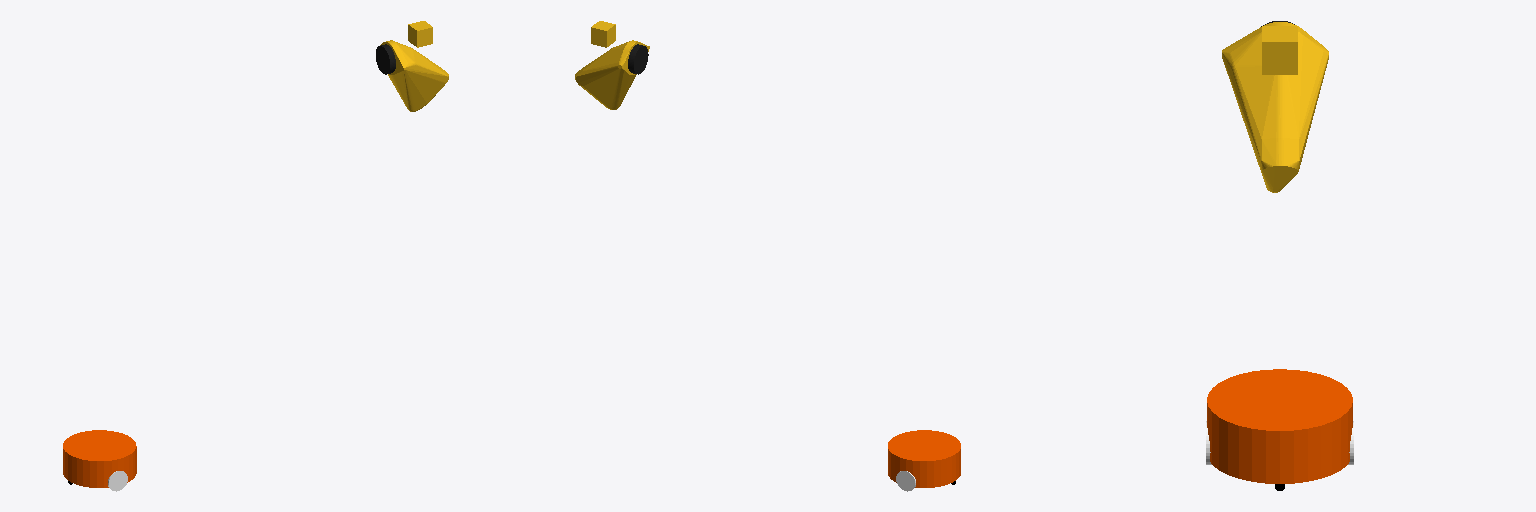
URDF robot description (crs):
<?xml version="1.0" ?>
<!-- =================================================================================== -->
<!-- |    This document was autogenerated by xacro from [local-path]/crs_ws_fanuc/install/fanuc_r2000ic_support/share/fanuc_r2000ic_support/urdf/r2000ic165f.xacro | -->
<!-- |    EDITING THIS FILE BY HAND IS NOT RECOMMENDED                                 | -->
<!-- =================================================================================== -->
<robot name="crs">
  <!-- Defining the colors used in this robot -->
  <material name="yellow">
    <color rgba="1 0.4 0 1"/>
  </material>
  <material name="black">
    <color rgba="0 0 0 0.95"/>
  </material>
  <material name="gray">
    <color rgba="0.75 0.75 0.75 1"/>
  </material>
  <!-- links: main serial chain -->
  <link name="world"/>
  <joint name="world_base_link" type="fixed">
    <parent link="world"/>
    <child link="base_link"/>
    <origin rpy="0 0 0" xyz="-2.5 0 0"/>
  </joint>
  <link name="base_link">
    <visual>
      <origin rpy="0 0 0" xyz="0 0 0"/>
      <geometry>
        <mesh filename="package://fanuc_r2000ic_support/meshes/r2000ic165f/visual/base_link.stl"/>
      </geometry>
      <material name="">
        <color rgba="0.4 0.4 0.4 1.0"/>
      </material>
    </visual>
    <collision>
      <origin rpy="0 0 0" xyz="0 0 0"/>
      <geometry>
        <mesh filename="package://fanuc_r2000ic_support/meshes/r2000ic165f/collision/base_link.stl"/>
      </geometry>
    </collision>
    <inertial>
      <mass value="10.0"/>
      <origin rpy="0.002688 0.004043 0.006103" xyz="-0.064613 -0.005314 0.100271"/>
      <inertia ixx="0.002695" ixy="0.000023" ixz="0.000157" iyy="0.004043" iyz="0.000023" izz="0.006096"/>
    </inertial>
  </link>
  <link name="link_1">
    <visual>
      <origin rpy="0 0 0" xyz="0 0 0"/>
      <geometry>
        <mesh filename="package://fanuc_r2000ic_support/meshes/r2000ic165f/visual/link_1.stl"/>
      </geometry>
      <material name="">
        <color rgba="0.96 0.76 0.13 1.0"/>
      </material>
    </visual>
    <collision>
      <origin rpy="0 0 0" xyz="0 0 0"/>
      <geometry>
        <mesh filename="package://fanuc_r2000ic_support/meshes/r2000ic165f/collision/link_1.stl"/>
      </geometry>
    </collision>
    <inertial>
      <mass value="5.0"/>
      <origin rpy="0.011358 0.019634 0.020073" xyz="0.010863 0.053239 0.523328"/>
      <inertia ixx="0.012932" ixy="0.003309" ixz=" -0.000331" iyy="0.018366" iyz="-0.000071" izz="0.019767"/>
    </inertial>
  </link>
  <link name="link_2">
    <visual>
      <origin rpy="0 0 0" xyz="0 0 0"/>
      <geometry>
        <mesh filename="package://fanuc_r2000ic_support/meshes/r2000ic165f/visual/link_2.stl"/>
      </geometry>
      <material name="">
        <color rgba="0.96 0.76 0.13 1.0"/>
      </material>
    </visual>
    <collision>
      <origin rpy="0 0 0" xyz="0 0 0"/>
      <geometry>
        <mesh filename="package://fanuc_r2000ic_support/meshes/r2000ic165f/collision/link_2.stl"/>
      </geometry>
    </collision>
    <inertial>
      <mass value="4.0"/>
      <origin rpy="0.001934 0.014381 0.015249" xyz="-0.001481 0.204359 0.436864"/>
      <inertia ixx="0.014390" ixy="0.000091" ixz="-0.000323" iyy="0.015120" iyz="-0.001213" izz="0.002053"/>
    </inertial>
  </link>
  <link name="link_3">
    <visual>
      <origin rpy="0 0 0" xyz="0 0 0"/>
      <geometry>
        <mesh filename="package://fanuc_r2000ic_support/meshes/r2000ic165f/visual/link_3.stl"/>
      </geometry>
      <material name="">
        <color rgba="0.96 0.76 0.13 1.0"/>
      </material>
    </visual>
    <collision>
      <origin rpy="0 0 0" xyz="0 0 0"/>
      <geometry>
        <mesh filename="package://fanuc_r2000ic_support/meshes/r2000ic165f/collision/link_3.stl"/>
      </geometry>
    </collision>
    <inertial>
      <mass value="4.0"/>
      <origin rpy="0.000964 0.001451 0.001518" xyz="0.059293 0.012994 0.109078"/>
      <inertia ixx="0.001451" ixy="0.000017" ixz="-0.000177" iyy="0.001441" iyz="0.000072" izz="0.001041"/>
    </inertial>
  </link>
  <link name="link_4">
    <visual>
      <origin rpy="0 0 0" xyz="0 0 0"/>
      <geometry>
        <mesh filename="package://fanuc_r2000ic_support/meshes/r2000ic165f/visual/link_4.stl"/>
      </geometry>
      <material name="">
        <color rgba="0.96 0.76 0.13 1.0"/>
      </material>
    </visual>
    <collision>
      <origin rpy="0 0 0" xyz="0 0 0"/>
      <geometry>
        <mesh filename="package://fanuc_r2000ic_support/meshes/r2000ic165f/collision/link_4.stl"/>
      </geometry>
    </collision>
    <inertial>
      <mass value="5.0"/>
      <origin rpy="0.000333 0.004282 0.004287" xyz="0.711733 -0.002537 -0.000643"/>
      <inertia ixx="0.000333" ixy="0.000044" ixz="0.000006" iyy="0.004287" iyz="-0.000000" izz="0.004282"/>
    </inertial>
  </link>
  <link name="link_5">
    <visual>
      <origin rpy="0 0 0" xyz="0 0 0"/>
      <geometry>
        <mesh filename="package://fanuc_r2000ic_support/meshes/r2000ic165f/visual/link_5.stl"/>
      </geometry>
      <material name="">
        <color rgba="0.96 0.76 0.13 1.0"/>
      </material>
    </visual>
    <collision>
      <origin rpy="0 0 0" xyz="0 0 0"/>
      <geometry>
        <mesh filename="package://fanuc_r2000ic_support/meshes/r2000ic165f/collision/link_5.stl"/>
      </geometry>
    </collision>
    <inertial>
      <mass value="8.0"/>
      <origin rpy="0.000078 0.000103 0.000118" xyz="0.042035 -0.024095 -0.001620"/>
      <inertia ixx="0.000088" ixy="-0.000012" ixz="0.000000" iyy="0.000094" iyz="0.000000" izz="0.000118"/>
    </inertial>
  </link>
  <link name="link_6">
    <visual>
      <origin rpy="0 0 0" xyz="0 0 0"/>
      <geometry>
        <mesh filename="package://fanuc_r2000ic_support/meshes/r2000ic165f/visual/link_6.stl"/>
      </geometry>
      <material name="">
        <color rgba="0.15 0.15 0.15 1.0"/>
      </material>
    </visual>
    <collision>
      <origin rpy="0 0 0" xyz="0 0 0"/>
      <geometry>
        <mesh filename="package://fanuc_r2000ic_support/meshes/r2000ic165f/collision/link_6.stl"/>
      </geometry>
    </collision>
    <inertial>
      <mass value="5.0"/>
      <origin rpy="0.000001 0.000001 0.000002" xyz="-0.018677 -0.000000 -0.000002"/>
      <inertia ixx="0.000002" ixy="0.000000" ixz="-0.000000" iyy="0.000001" iyz="0.000000" izz="0.000001"/>
    </inertial>
  </link>
  <link name="ef">
    <visual>
      <origin rpy="0 0 0" xyz="0 0 0"/>
      <geometry>
        <mesh filename="package://fanuc_r2000ic_support/meshes/r2000ic165f/visual/ef.stl"/>
      </geometry>
      <material name="">
        <color rgba="0.96 0.76 0.13 1.0"/>
      </material>
    </visual>
    <collision>
      <origin rpy="0 0 0" xyz="0 0 0"/>
      <geometry>
        <mesh filename="package://fanuc_r2000ic_support/meshes/r2000ic165f/collision/ef.stl"/>
      </geometry>
    </collision>
    <inertial>
      <mass value="3.0"/>
      <origin rpy="0.000082 0.000185 0.000195" xyz="0.0 0.0 0.0"/>
      <inertia ixx="0.000127" ixy="0.000000" ixz="0.000052" iyy="0.000194" iyz="0.000003" izz="0.000141"/>
    </inertial>
  </link>
  <!--mbot_base -->
  <link name="agv_base_link">
    <visual>
      <origin rpy="0 0 0" xyz="0 0 0"/>
      <geometry>
        <cylinder length="0.16" radius="0.20"/>
      </geometry>
      <material name="yellow">
        <color rgba="1 0.4 0 1"/>
      </material>
    </visual>
  </link>
  <joint name="agv_base_link" type="continuous">
    <origin rpy="0 0 0" xyz="0 0 0"/>
    <parent link="base_link"/>
    <child link="agv_base_link"/>
    <axis xyz="0 1 0"/>
  </joint>
  <joint name="left_wheel_joint" type="continuous">
    <origin rpy="0 0 0" xyz="0 0.19 -0.05"/>
    <parent link="base_link"/>
    <child link="left_wheel_link"/>
    <axis xyz="0 1 0"/>
  </joint>
  <link name="left_wheel_link">
    <visual>
      <origin rpy="1.5707 0 0" xyz="0 0 0"/>
      <geometry>
        <cylinder length="0.025" radius="0.06"/>
      </geometry>
      <material name="white">
        <color rgba="1 1 1 0.9"/>
      </material>
    </visual>
  </link>
  <joint name="right_wheel_joint" type="continuous">
    <origin rpy="0 0 0" xyz="0 -0.19 -0.05"/>
    <parent link="base_link"/>
    <child link="right_wheel_link"/>
    <axis xyz="0 1 0"/>
  </joint>
  <link name="right_wheel_link">
    <visual>
      <origin rpy="1.5707 0 0" xyz="0 0 0"/>
      <geometry>
        <cylinder length="0.025" radius="0.06"/>
      </geometry>
      <material name="white">
        <color rgba="1 1 1 0.9"/>
      </material>
    </visual>
  </link>
  <joint name="front_caster_joint" type="continuous">
    <origin rpy="0 0 0" xyz="0.18 0 -0.095"/>
    <parent link="base_link"/>
    <child link="front_caster_link"/>
    <axis xyz="0 1 0"/>
  </joint>
  <link name="front_caster_link">
    <visual>
      <origin rpy="0 0 0" xyz="0 0 0"/>
      <geometry>
        <sphere radius="0.015"/>
      </geometry>
      <material name="black">
        <color rgba="0 0 0 0.95"/>
      </material>
    </visual>
  </link>
  <joint name="back_caster_joint" type="continuous">
    <origin rpy="0 0 0" xyz="-0.18 0 -0.095"/>
    <parent link="base_link"/>
    <child link="back_caster_link"/>
    <axis xyz="0 1 0"/>
  </joint>
  <link name="back_caster_link">
    <visual>
      <origin rpy="0 0 0" xyz="0 0 0"/>
      <geometry>
        <sphere radius="0.015"/>
      </geometry>
      <material name="black">
        <color rgba="0 0 0 0.95"/>
      </material>
    </visual>
  </link>
  <!-- joints: main serial chain -->
  <joint name="joint_1" type="revolute">
    <origin rpy="0 0 0" xyz="0 0 0"/>
    <parent link="base_link"/>
    <child link="link_1"/>
    <axis xyz="0 0 1"/>
    <limit effort="0" lower="-3.2288591161895095" upper="3.2288591161895095" velocity="2.2689280275926285"/>
  </joint>
  <joint name="joint_2" type="revolute">
    <origin rpy="0 0 0" xyz="0.312 0 0.670"/>
    <parent link="link_1"/>
    <child link="link_2"/>
    <axis xyz="0 1 0"/>
    <limit effort="0" lower="-1.0471975511965976" upper="1.3264502315156905" velocity="2.007128639793479"/>
  </joint>
  <joint name="joint_3" type="revolute">
    <origin rpy="0 0 0" xyz="0 0 1.075"/>
    <parent link="link_2"/>
    <child link="link_3"/>
    <axis xyz="0 -1 0"/>
    <limit effort="0" lower="-2.303834612632515" upper="3.141592653589793" velocity="2.181661564992912"/>
  </joint>
  <joint name="joint_4" type="revolute">
    <origin rpy="0 0 0" xyz="0 0 0.225"/>
    <parent link="link_3"/>
    <child link="link_4"/>
    <axis xyz="-1 0 0"/>
    <limit effort="0" lower="-6.283185307179586" upper="6.283185307179586" velocity="3.141592653589793"/>
  </joint>
  <joint name="joint_5" type="revolute">
    <origin rpy="0 0 0" xyz="1.280 0 0"/>
    <parent link="link_4"/>
    <child link="link_5"/>
    <axis xyz="0 -1 0"/>
    <limit effort="0" lower="-2.181661564992912" upper="2.181661564992912" velocity="3.141592653589793"/>
  </joint>
  <joint name="joint_6" type="revolute">
    <origin rpy="0 0 0" xyz="0.215 0 0"/>
    <parent link="link_5"/>
    <child link="link_6"/>
    <axis xyz="-1 0 0"/>
    <limit effort="0" lower="-6.283185307179586" upper="6.283185307179586" velocity="4.537856055185257"/>
  </joint>
  <!-- ROS-Industrial 'base' frame: base_link to Fanuc World Coordinates transform -->
  <link name="base"/>
  <joint name="base_link-base" type="fixed">
    <origin rpy="0 0 0" xyz="0 0 0.670"/>
    <parent link="base_link"/>
    <child link="base"/>
  </joint>
  <!-- ROS-Industrial 'flange' frame: attachment point for EEF models -->
  <link name="flange"/>
  <joint name="joint_6-flange" type="fixed">
    <origin rpy="0 0 0" xyz="0 0 0"/>
    <parent link="link_6"/>
    <child link="flange"/>
  </joint>
  <!-- ROS-Industrial 'tool0' frame: all-zeros tool frame -->
  <link name="tool0"/>
  <joint name="flange-tool0" type="fixed">
    <origin rpy="0 1.5707963267948966 0" xyz="0 0 0"/>
    <parent link="link_6"/>
    <child link="tool0"/>
  </joint>
  <joint name="flange-ef" type="fixed">
    <origin rpy="3.141592653589793 -3.141592653589793 0" xyz="0 0 0"/>
    <parent link="tool0"/>
    <child link="ef"/>
  </joint>
  <link name="tcp"/>
  <joint name="tcp_ef" type="fixed">
    <origin rpy="5.53832e-13 -0.785398 0" xyz="-0.204433413 -7.32E-04 0.333181177"/>
    <parent link="ef"/>
    <child link="tcp"/>
  </joint>
  <link name="gazebo_camera_link">
    <collision>
      <origin rpy="0 0 0" xyz="0 0 0"/>
      <geometry>
        <box size="0.1 0.1 0.1"/>
      </geometry>
    </collision>
    <visual>
      <origin rpy="0 0 0" xyz="0 0 0"/>
      <geometry>
        <box size="0.1 0.1 0.1"/>
      </geometry>
      <material name="">
        <color rgba="0.96 0.76 0.13 1.0"/>
      </material>
    </visual>
    <inertial>
      <mass value="1e-5"/>
      <origin rpy="0 0 0" xyz="0 0 0"/>
      <inertia ixx="1e-6" ixy="0" ixz="0" iyy="1e-6" iyz="0" izz="1e-6"/>
    </inertial>
  </link>
  <joint name="gazebo_camera_joint" type="fixed">
    <origin rpy="1.57 -1.57 0" xyz="0.0 0.0 0.0"/>
    <parent link="camera_link_optical"/>
    <child link="gazebo_camera_link"/>
  </joint>
  <link name="camera_link_optical">

    </link>
  <joint name="camera_optical_joint" type="fixed">
    <origin rpy="0 0 0" xyz="0.1 0 0.2"/>
    <parent link="ef"/>
    <child link="camera_link_optical"/>
  </joint>
  <link name="camera_link"/>
  <joint name="camera_link_joint" type="fixed">
    <origin rpy="1.57 -1.57 0" xyz="0.0 0.0 0.0"/>
    <parent link="camera_link_optical"/>
    <child link="camera_link"/>
  </joint>
  <transmission name="trans_joint_1">
    <type>transmission_interface/SimpleTransmission</type>
    <joint name="joint_1">
      <hardwareInterface>hardware_interface/EffortJointInterface</hardwareInterface>
    </joint>
    <actuator name="joint_1_motor">
      <hardwareInterface>hardware_interface/EffortJointInterface</hardwareInterface>
      <mechanicalReduction>1</mechanicalReduction>
    </actuator>
  </transmission>
  <transmission name="trans_joint_2">
    <type>transmission_interface/SimpleTransmission</type>
    <joint name="joint_2">
      <hardwareInterface>hardware_interface/EffortJointInterface</hardwareInterface>
    </joint>
    <actuator name="joint_2_motor">
      <hardwareInterface>hardware_interface/EffortJointInterface</hardwareInterface>
      <mechanicalReduction>1</mechanicalReduction>
    </actuator>
  </transmission>
  <transmission name="trans_joint_3">
    <type>transmission_interface/SimpleTransmission</type>
    <joint name="joint_3">
      <hardwareInterface>hardware_interface/EffortJointInterface</hardwareInterface>
    </joint>
    <actuator name="joint_3_motor">
      <hardwareInterface>hardware_interface/EffortJointInterface</hardwareInterface>
      <mechanicalReduction>1</mechanicalReduction>
    </actuator>
  </transmission>
  <transmission name="trans_joint_4">
    <type>transmission_interface/SimpleTransmission</type>
    <joint name="joint_4">
      <hardwareInterface>hardware_interface/EffortJointInterface</hardwareInterface>
    </joint>
    <actuator name="joint_4_motor">
      <hardwareInterface>hardware_interface/EffortJointInterface</hardwareInterface>
      <mechanicalReduction>1</mechanicalReduction>
    </actuator>
  </transmission>
  <transmission name="trans_joint_5">
    <type>transmission_interface/SimpleTransmission</type>
    <joint name="joint_5">
      <hardwareInterface>hardware_interface/EffortJointInterface</hardwareInterface>
    </joint>
    <actuator name="joint_5_motor">
      <hardwareInterface>hardware_interface/EffortJointInterface</hardwareInterface>
      <mechanicalReduction>1</mechanicalReduction>
    </actuator>
  </transmission>
  <transmission name="trans_joint_6">
    <type>transmission_interface/SimpleTransmission</type>
    <joint name="joint_6">
      <hardwareInterface>hardware_interface/EffortJointInterface</hardwareInterface>
    </joint>
    <actuator name="joint_6_motor">
      <hardwareInterface>hardware_interface/EffortJointInterface</hardwareInterface>
      <mechanicalReduction>1</mechanicalReduction>
    </actuator>
  </transmission>
  <gazebo reference="base_link">
    <selfCollide>true</selfCollide>
  </gazebo>
  <gazebo reference="link_1">
    <selfCollide>true</selfCollide>
  </gazebo>
  <gazebo reference="link_2">
    <selfCollide>true</selfCollide>
  </gazebo>
  <gazebo reference="link_3">
    <selfCollide>true</selfCollide>
  </gazebo>
  <gazebo reference="link_4">
    <selfCollide>true</selfCollide>
  </gazebo>
  <gazebo reference="link_5">
    <selfCollide>true</selfCollide>
  </gazebo>
  <gazebo reference="link_6">
    <selfCollide>true</selfCollide>
  </gazebo>
  <gazebo reference="ef">
    <selfCollide>true</selfCollide>
  </gazebo>
  <gazebo reference="tool0">
    <selfCollide>true</selfCollide>
  </gazebo>
  <gazebo reference="flange">
    <selfCollide>true</selfCollide>
  </gazebo>
  <gazebo reference="gazebo_camera_link">
    <sensor name="sensor_name" type="depth">
      <!-- Set always_on only sensor, not on plugin -->
      <always_on>1</always_on>
      <!-- Set update_rate only sensor, not on plugin -->
      <update_rate>5</update_rate>
      <camera name="camera_name">
        <image>
          <width>320</width>
          <height>200</height>
        </image>
        <distortion>
          <k1>-0.0</k1>
          <k2>0.0</k2>
          <k3>0.0</k3>
          <p1>-0.0</p1>
          <p2>-0.0</p2>
          <center>0.5 0.5</center>
        </distortion>
      </camera>
      <plugin filename="libgazebo_ros_camera.so" name="plugin_name">
        <!-- Change namespace, camera name and topics so:
                 * Raw images are published to: /custom_ns/custom_camera/custom_image
                 * Depth images are published to: /custom_ns/custom_camera/custom_image_depth
                 * Raw image camera info is published to: /custom_ns/custom_camera/custom_info_raw
                 * Depth image camera info is published to: /custom_ns/custom_camera/custom_info_depth
                 * Point cloud is published to: /custom_ns/custom_camera/custom_points
            -->
        <ros>
          <namespace>custom_ns</namespace>
          <argument>camera/image_raw:=camera/custom_image</argument>
          <argument>camera/image_depth:=camera/custom_image_depth</argument>
          <argument>camera/camera_info:=camera/custom_info_raw</argument>
          <argument>camera/camera_info_depth:=camera/custom_info_depth</argument>
          <argument>camera/points:=camera/pointcloud</argument>
        </ros>
        <!-- Set camera name. If empty, defaults to sensor name (i.e. "sensor_name") -->
        <camera_name>camera</camera_name>
        <frame_name>camera_link_optical</frame_name>
        <!-- Set TF frame name. If empty, defaults to link name (i.e. "link_name") -->
        <hack_baseline>0.07</hack_baseline>
        <!-- No need to repeat distortion parameters or to set autoDistortion -->
        <min_depth>0.1</min_depth>
      </plugin>
    </sensor>
  </gazebo>
  <gazebo>
    <plugin filename="libgazebo_ros_joint_state_publisher.so" name="gazebo_ros_joint_state_publisher">
      <ros>
        <namespace>/test</namespace>
        <argument>joint_states:=joint_states</argument>
      </ros>
      <update_rate>50</update_rate>
      <joint_name>joint_1</joint_name>
      <joint_name>joint_2</joint_name>
      <joint_name>joint_3</joint_name>
      <joint_name>joint_4</joint_name>
      <joint_name>joint_5</joint_name>
      <joint_name>joint_6</joint_name>
    </plugin>
    <plugin filename="libcrs_gazebo_plugins_joint_pose_trajectory.so" name="crs_gazebo_plugins_joint_pose_trajectory">
      <ros>
        <namespace>sim</namespace>
        <argument>follow_joint_trajectory:=follow_joint_trajectory</argument>
      </ros>
      <update_rate>20</update_rate>
    </plugin>
  </gazebo>
</robot>

--- Render facts (derived) ---
3 views of the same robot in one strip: view 1: azimuth 30°, elevation 25°; view 2: azimuth 150°, elevation 25°; view 3: azimuth 270°, elevation 25° (orthographic).
Robot: crs — 21 links, 20 joints (6 revolute, 5 continuous, 9 fixed); root link world; default pose: every joint at zero.
Links seen in each view (by area): view 1: agv_base_link, ef, gazebo_camera_link; view 2: agv_base_link, ef, gazebo_camera_link; view 3: agv_base_link, ef, gazebo_camera_link.
Link boxes in pixels (<box>): agv_base_link: <box>63,430,136,487</box>; ef: <box>380,40,448,111</box>; gazebo_camera_link: <box>408,21,432,47</box>; agv_base_link: <box>888,430,960,487</box>; ef: <box>575,40,649,109</box>; gazebo_camera_link: <box>591,21,615,47</box>; agv_base_link: <box>1207,369,1352,483</box>; ef: <box>1222,22,1328,192</box>; gazebo_camera_link: <box>1262,26,1297,74</box>.
Bounding box of the posed robot: 2.37 × 0.405 × 2.23 m (x, y, z).
2 mesh visuals loaded from 8 distinct referenced files (2 binary STL); not drawn: 6 (reference not matched to a file when rendering).